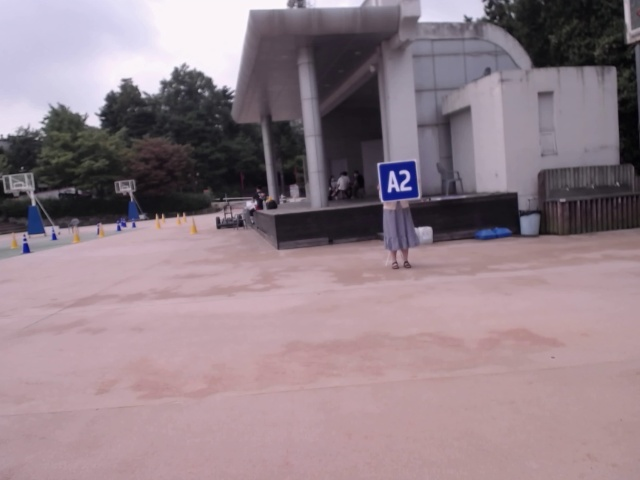delivery_a2: (378, 159, 420, 202)
